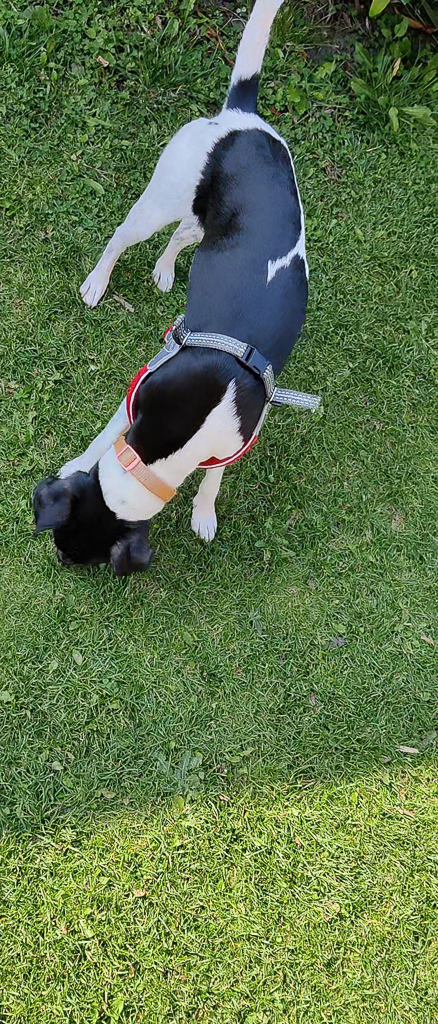Dog: (21, 0, 345, 596)
